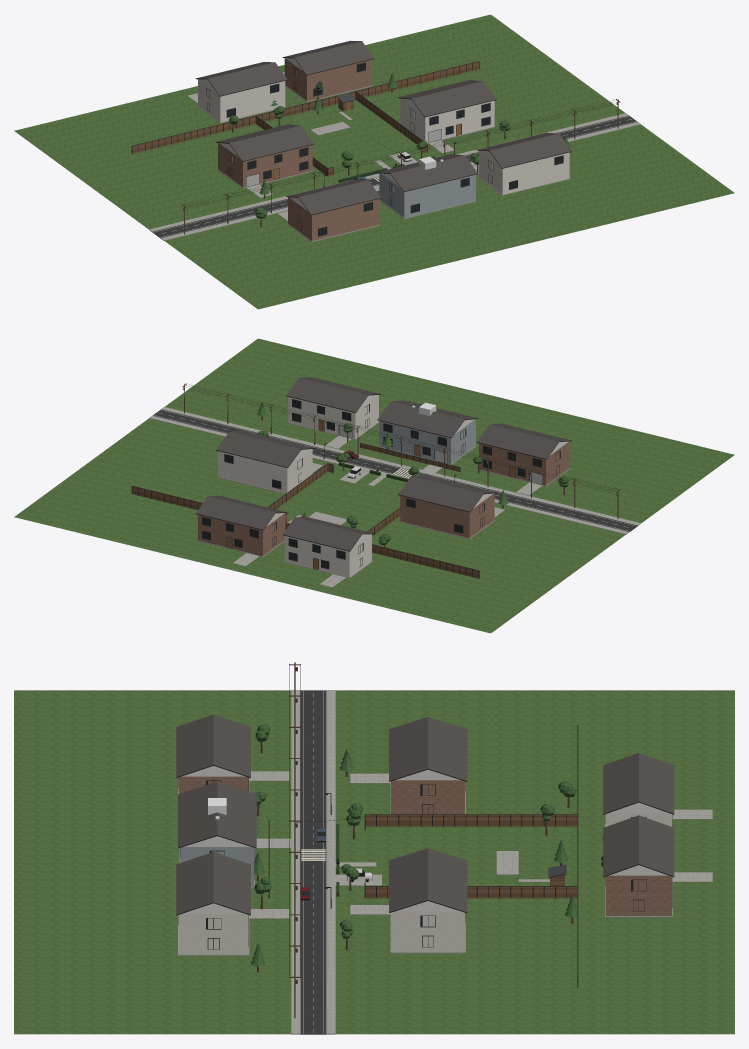
File: H_Exterior.fbx
3 views of the same model, one above another, from view 1: azimuth 30°, elevation 25°; view 2: azimuth 150°, elevation 25°; view 3: azimuth 270°, elevation 25° (orthographic). The views are drawn at different scales.
Visible parts, largest first — view 1: Ext_Ground_Grass, Ext_Fences_Fence, Ext_Across_Siding, Ext_AcrossE_Render, Ext_AcrossW_Brick, Ext_BehindE_Brick, Ext_BehindW_Render, Ext_NeighbourW_Brick, Ext_NeighbourE_Render, Ext_NeighbourE_RoofTile, Ext_NeighbourW_RoofTile, Ext_Street_Asphalt (+10 smaller); view 2: Ext_Ground_Grass, Ext_Street_Asphalt, Ext_Fences_Fence, Ext_Street_Concrete, Ext_NeighbourW_Brick, Ext_NeighbourE_Render, Ext_Across_Siding, Ext_BehindW_Render, Ext_BehindE_Brick, Ext_NeighbourE_RoofTile, Ext_NeighbourW_RoofTile, Ext_AcrossW_Brick (+10 smaller); view 3: Ext_Ground_Grass, Ext_Street_Asphalt, Ext_Street_Concrete, Ext_NeighbourE_RoofTile, Ext_NeighbourW_RoofTile, Ext_Fences_Fence, Ext_Across_RoofTile, Ext_AcrossE_RoofTile, Ext_AcrossW_RoofTile, Ext_BehindE_RoofTile, Ext_BehindW_RoofTile, Ext_NeighbourE_Render (+12 smaller).
Boxes of the visible parts, <box> form: Ext_Ground_Grass: <box>14,14,734,309</box>; Ext_Fences_Fence: <box>132,61,478,194</box>; Ext_Across_Siding: <box>379,173,475,217</box>; Ext_AcrossE_Render: <box>479,150,569,194</box>; Ext_AcrossW_Brick: <box>288,197,378,241</box>; Ext_BehindE_Brick: <box>284,58,371,101</box>; Ext_BehindW_Render: <box>198,79,285,122</box>; Ext_NeighbourW_Brick: <box>218,142,312,187</box>; Ext_NeighbourE_Render: <box>400,98,494,142</box>; Ext_NeighbourE_RoofTile: <box>399,80,496,116</box>; Ext_NeighbourW_RoofTile: <box>216,124,314,161</box>; Ext_Street_Asphalt: <box>152,115,637,238</box>; Ext_Ground_Grass: <box>14,338,734,633</box>; Ext_Street_Asphalt: <box>153,409,637,532</box>; Ext_Fences_Fence: <box>132,443,478,578</box>; Ext_Street_Concrete: <box>149,407,640,534</box>; Ext_NeighbourW_Brick: <box>400,493,494,538</box>; Ext_NeighbourE_Render: <box>218,449,312,493</box>; Ext_Across_Siding: <box>379,419,475,463</box>; Ext_BehindW_Render: <box>284,534,371,577</box>; Ext_BehindE_Brick: <box>198,513,285,556</box>; Ext_NeighbourE_RoofTile: <box>216,430,313,467</box>; Ext_NeighbourW_RoofTile: <box>398,475,495,511</box>; Ext_AcrossW_Brick: <box>479,441,569,485</box>; Ext_Ground_Grass: <box>14,690,734,1034</box>; Ext_Street_Asphalt: <box>300,690,326,1034</box>; Ext_Street_Concrete: <box>291,690,335,1034</box>; Ext_NeighbourE_RoofTile: <box>389,848,467,912</box>; Ext_NeighbourW_RoofTile: <box>389,717,467,780</box>; Ext_Fences_Fence: <box>365,815,577,898</box>; Ext_Across_RoofTile: <box>178,781,256,847</box>; Ext_AcrossE_RoofTile: <box>176,852,250,914</box>; Ext_AcrossW_RoofTile: <box>176,714,250,776</box>; Ext_BehindE_RoofTile: <box>603,815,674,876</box>; Ext_BehindW_RoofTile: <box>603,753,674,813</box>; Ext_NeighbourE_Render: <box>391,911,464,951</box>.
Size of the model in its own units: 44000 by 3630 by 39000.
28 materials, 11 textured.
